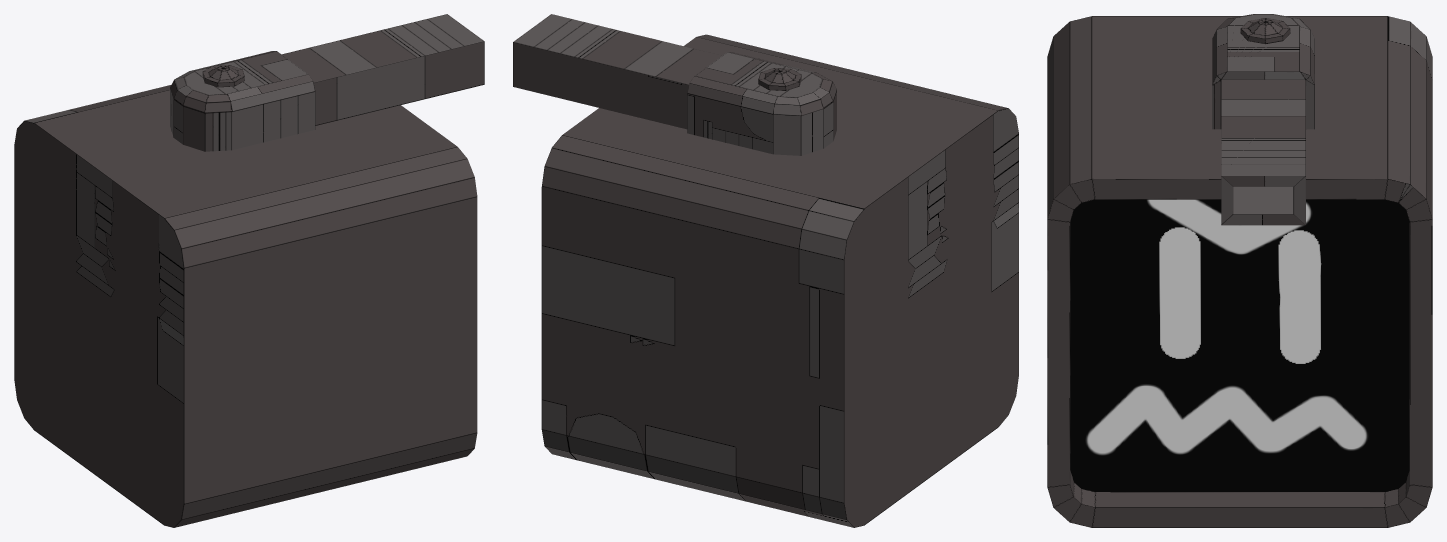
File: Lvl1_AssualtBot.fbx
3 renders of one model, left to right at view 1: azimuth 30°, elevation 25°; view 2: azimuth 150°, elevation 25°; view 3: azimuth 270°, elevation 25°, orthographic. The views are drawn at different scales.
Parts seen in each view (by area): view 1: Cube; view 2: Cube; view 3: Cube.
Boxes of the visible parts, x1,y1,x2,y2 form: Cube: [14, 14, 484, 527]; Cube: [513, 14, 1018, 527]; Cube: [1047, 14, 1432, 527].
Bounding box in the file's own units: 257 × 240 × 200.
Materials: 1 (1 with a texture image).
